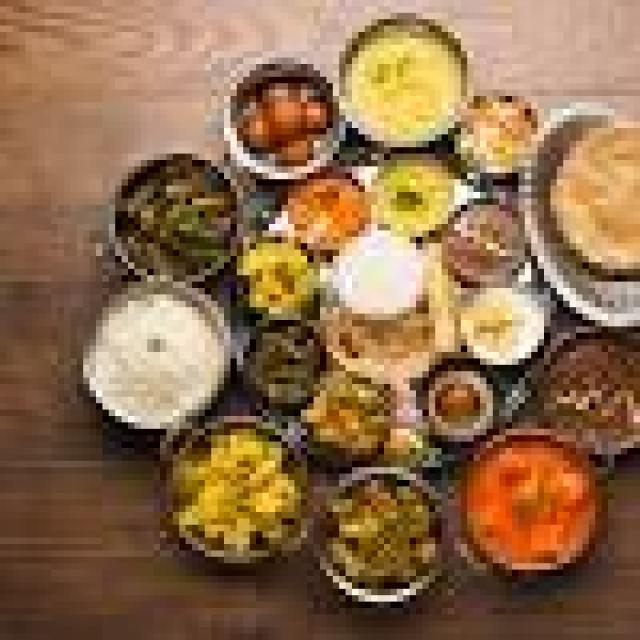dal: (454, 432, 605, 578), (84, 283, 231, 428), (164, 415, 303, 561), (339, 16, 465, 156), (313, 474, 447, 592)
rice: (453, 282, 548, 367)
roti: (536, 125, 640, 289), (526, 318, 637, 458), (310, 306, 433, 418)
sweet: (234, 69, 337, 173), (436, 196, 532, 290), (272, 168, 377, 253), (422, 361, 498, 440)
veg-fry: (115, 150, 241, 289)
